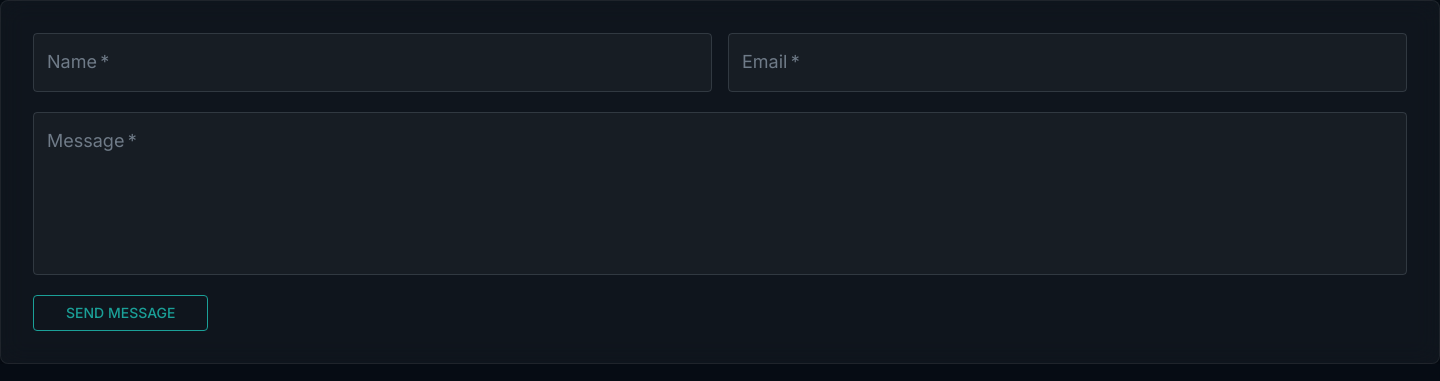
Test case: ContactForm › shows success state after successful submission
Type "Alex" into the field labelled "Name *" at (372, 62), box [33,33,712,92]
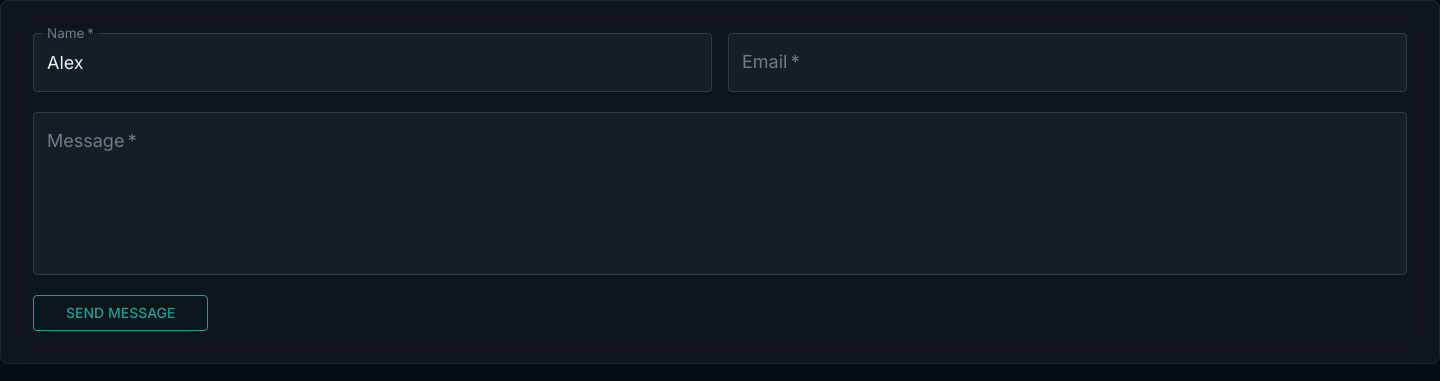
Type "a@b.com" into the field labelled "Email *" at (1068, 62), box [728,33,1407,92]
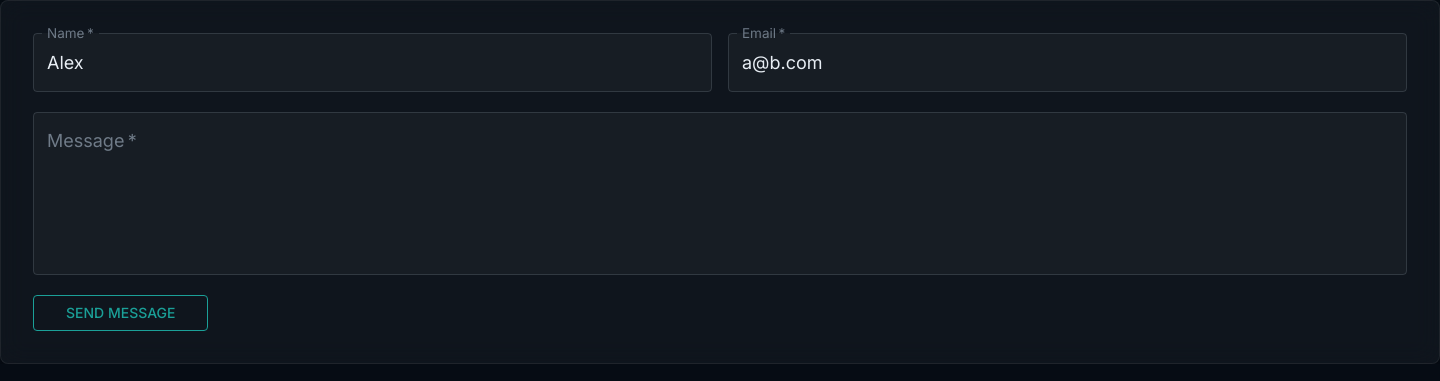
Type "Hello" into the text box labelled "Message *" at (720, 193), box [47,128,1393,258]
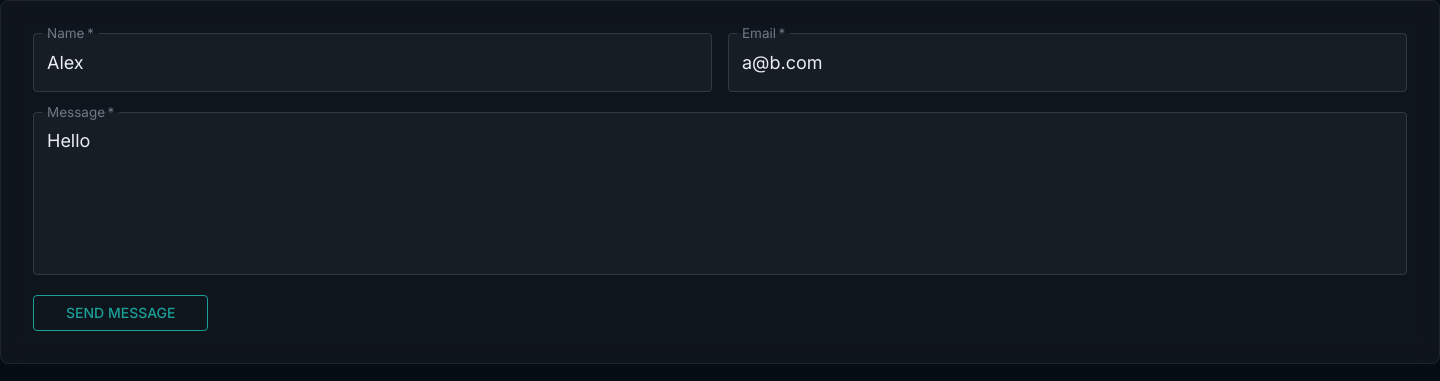
Submit the form "Name * Email * Message * Send message"
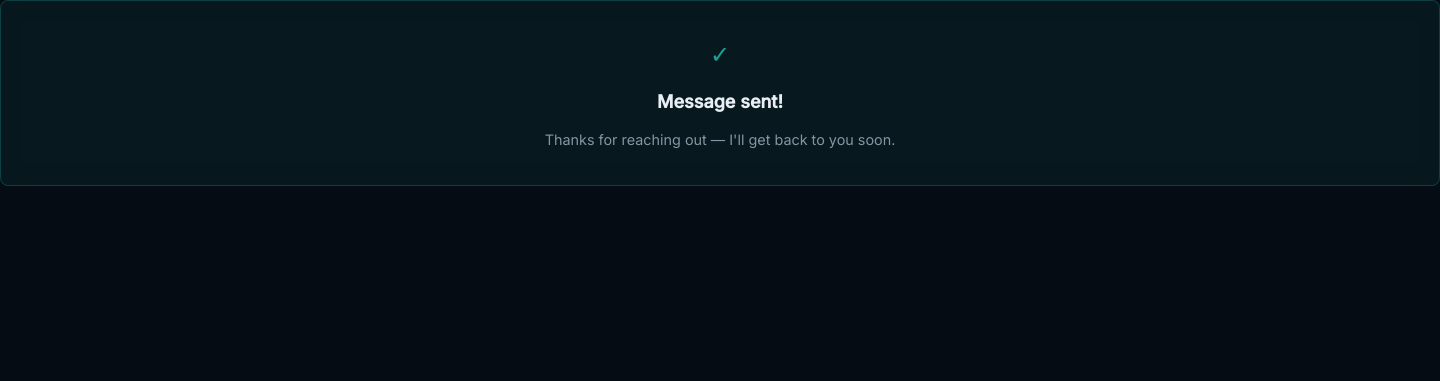
expect the text "Message sent!" is shown: met, box [657,91,783,112]
